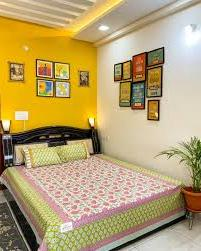bed: (0, 129, 192, 251)
light: (65, 0, 124, 37), (94, 15, 114, 41), (177, 25, 200, 40), (81, 115, 99, 129), (0, 119, 14, 134)
